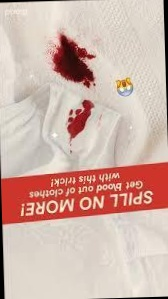blood: (49, 33, 95, 87), (67, 100, 96, 138)
